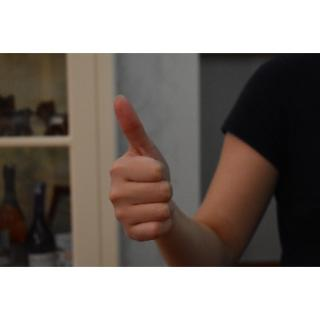ALIF: (103, 91, 176, 241)
